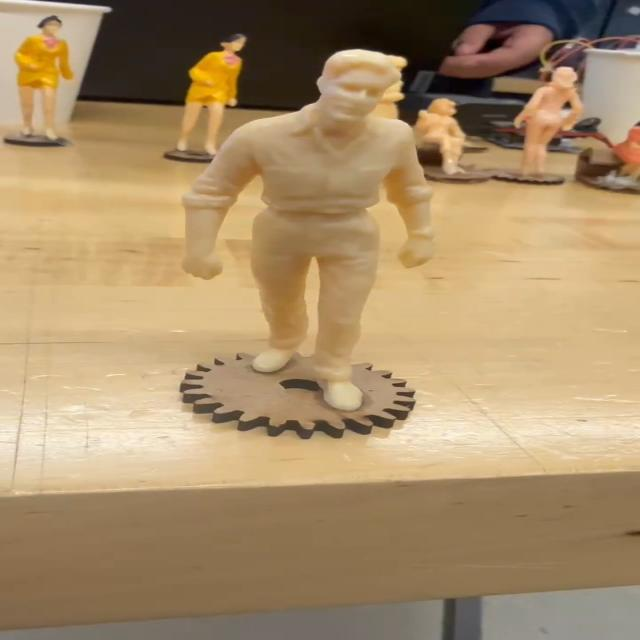Unauthorized: (132, 17, 464, 433)
